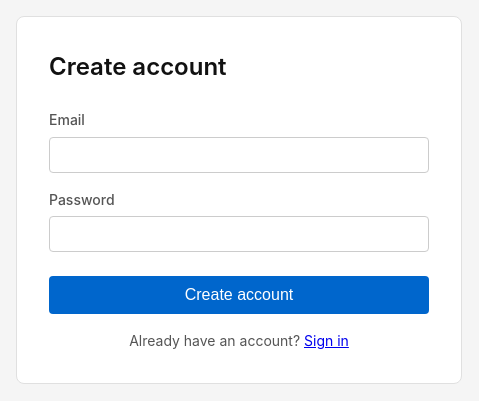
RegisterPage › submit button is disabled while form is submitting
Type "new@user.com" into the field labelled "Email" at (239, 154), box x1=49 y1=136 x2=429 y2=172
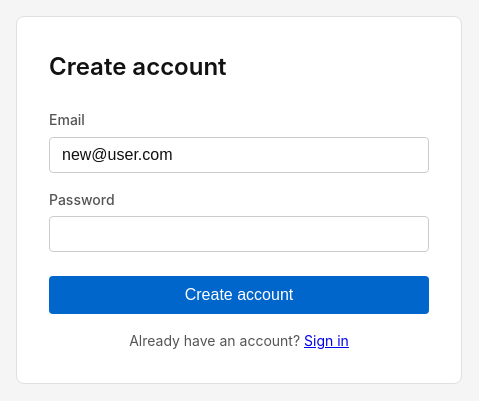
Type "password123" into the password field labelled "Password" at (239, 234), box x1=49 y1=216 x2=429 y2=252
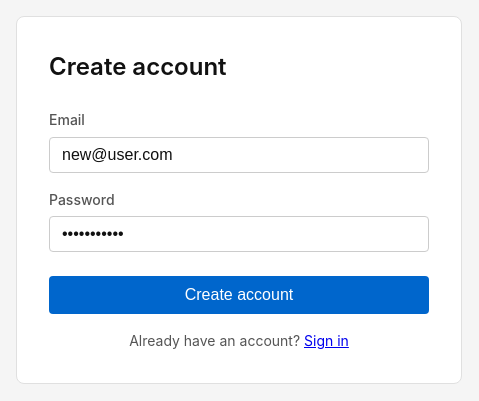
Click the button "Create account" at (239, 295), box x1=49 y1=276 x2=429 y2=314
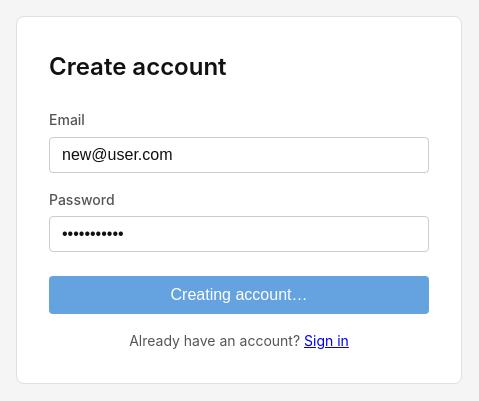
expect the button "Creating account…" is disabled: met, box x1=49 y1=276 x2=429 y2=314
